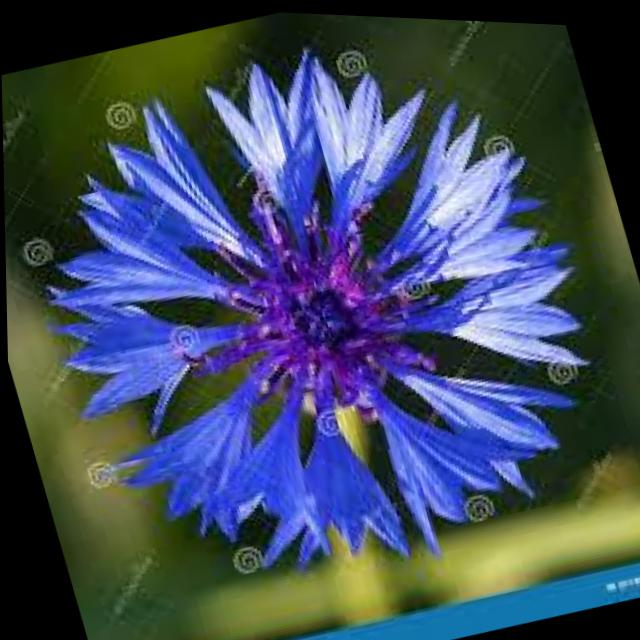Flower: (5, 8, 628, 615)
